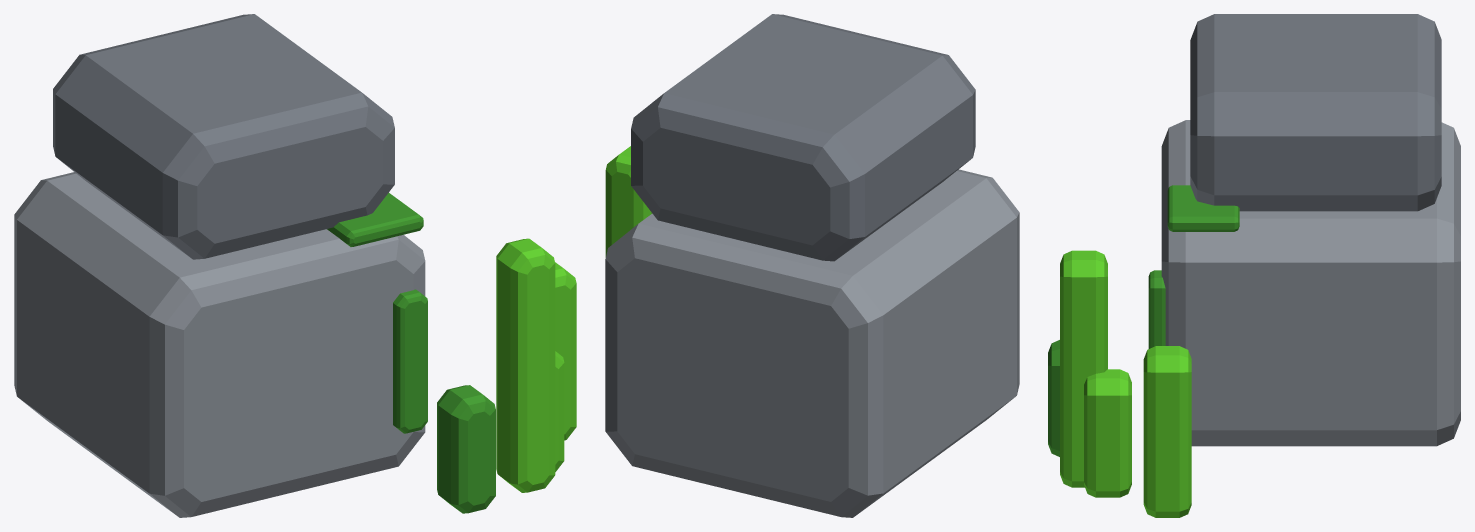
File: DrownedVillage_Corner_Pillar.glb
The picture shows the model from 3 angles, left to right: view 1: azimuth 30°, elevation 25°; view 2: azimuth 150°, elevation 25°; view 3: azimuth 270°, elevation 25°; orthographic projection. The views are drawn at different scales.
Visible parts, largest first — view 1: pillar_base_01, pillar_top_01, reed_01, reed_04, algae_strip_01, reed_02, algae_cap_01, reed_03; view 2: pillar_base_01, pillar_top_01, reed_02; view 3: pillar_base_01, pillar_top_01, reed_01, reed_02, reed_03, algae_cap_01, reed_04, algae_strip_01.
Boxes of the visible parts, <box> form: pillar_base_01: <box>14,172,425,517</box>; pillar_top_01: <box>53,14,394,259</box>; reed_01: <box>496,238,555,492</box>; reed_04: <box>437,385,495,513</box>; algae_strip_01: <box>393,289,427,433</box>; reed_02: <box>555,262,576,440</box>; algae_cap_01: <box>327,193,423,246</box>; reed_03: <box>555,351,564,471</box>; pillar_base_01: <box>605,169,1019,517</box>; pillar_top_01: <box>631,14,975,261</box>; reed_02: <box>605,146,652,257</box>; pillar_base_01: <box>1161,120,1460,446</box>; pillar_top_01: <box>1190,14,1441,211</box>; reed_01: <box>1060,250,1107,487</box>; reed_02: <box>1143,346,1191,517</box>; reed_03: <box>1084,369,1131,497</box>; algae_cap_01: <box>1167,185,1239,231</box>; reed_04: <box>1048,340,1059,456</box>; algae_strip_01: <box>1148,270,1165,348</box>.
Bounding box in the file's own units: 1.88 × 1.6 × 1.73.
